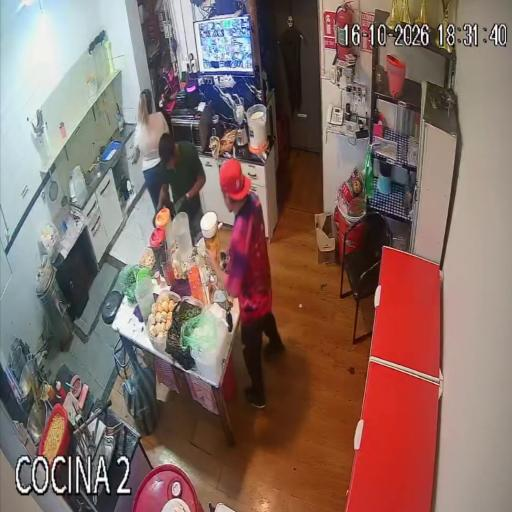Balde: (246, 104, 268, 153)
Envase Ketchup: (56, 381, 67, 401)
Licuadora: (210, 114, 224, 137)
Licuadora2: (235, 97, 248, 154)
Microondas: (171, 104, 211, 151)
Persona1: (212, 159, 284, 407), (150, 227, 166, 273)
Persona2: (134, 90, 169, 207), (155, 208, 174, 244)
Persona3: (158, 134, 205, 237), (173, 212, 193, 262)
Persona4: (135, 274, 154, 321)
Persona5: (155, 40, 180, 121), (200, 211, 222, 262)
Taper: (146, 290, 180, 352), (139, 247, 155, 271)
Taper2: (180, 296, 204, 313)
Taper3: (181, 305, 230, 386)
